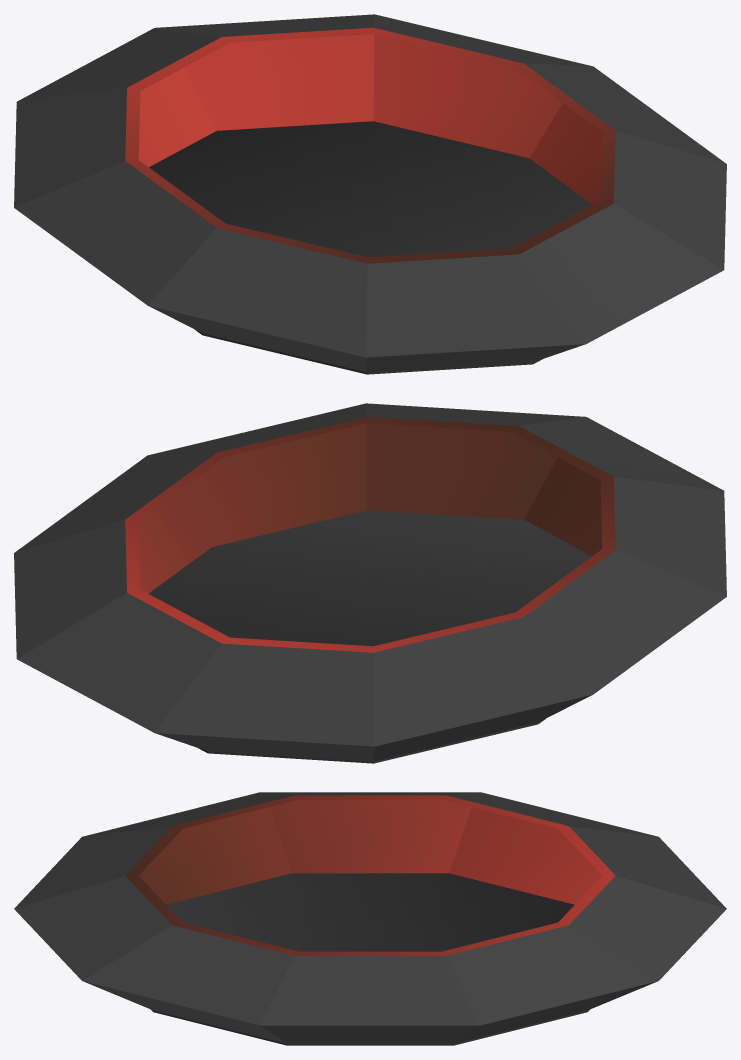
Rendered from BossRoom.fbx.
3 renders of one model, top to bottom at view 1: azimuth 30°, elevation 25°; view 2: azimuth 150°, elevation 25°; view 3: azimuth 270°, elevation 25°, orthographic. The views are drawn at different scales.
Parts seen in each view (by area): view 1: Cylinder; view 2: Cylinder; view 3: Cylinder.
Part boxes in pixels (x1,y1,x2,y2): Cylinder: (14,14,726,374); Cylinder: (14,403,726,763); Cylinder: (14,792,726,1045).
Bounding box in the file's own units: 8162 × 1342 × 10538.
